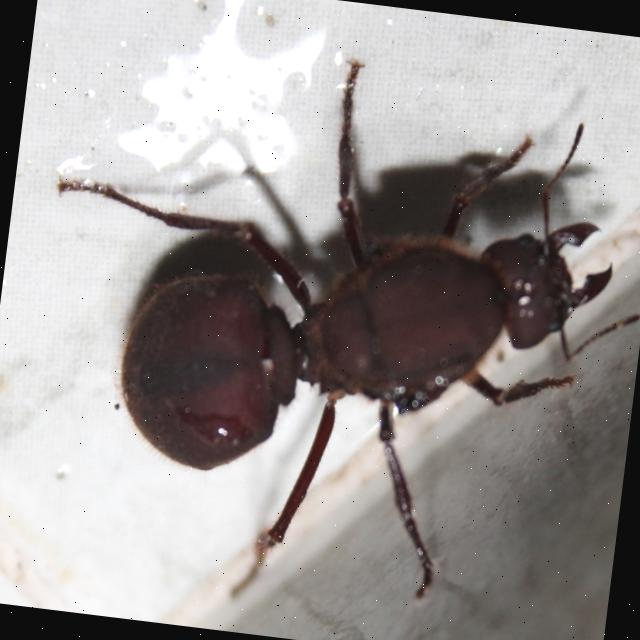Alive-Female-Dealate: (11, 26, 640, 640)
